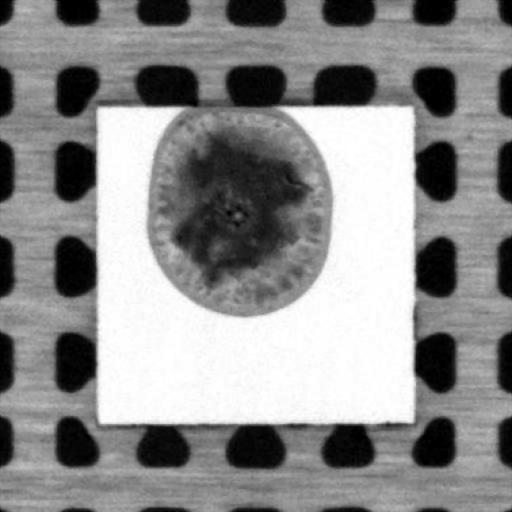DIE_INK: (146, 105, 336, 316)
